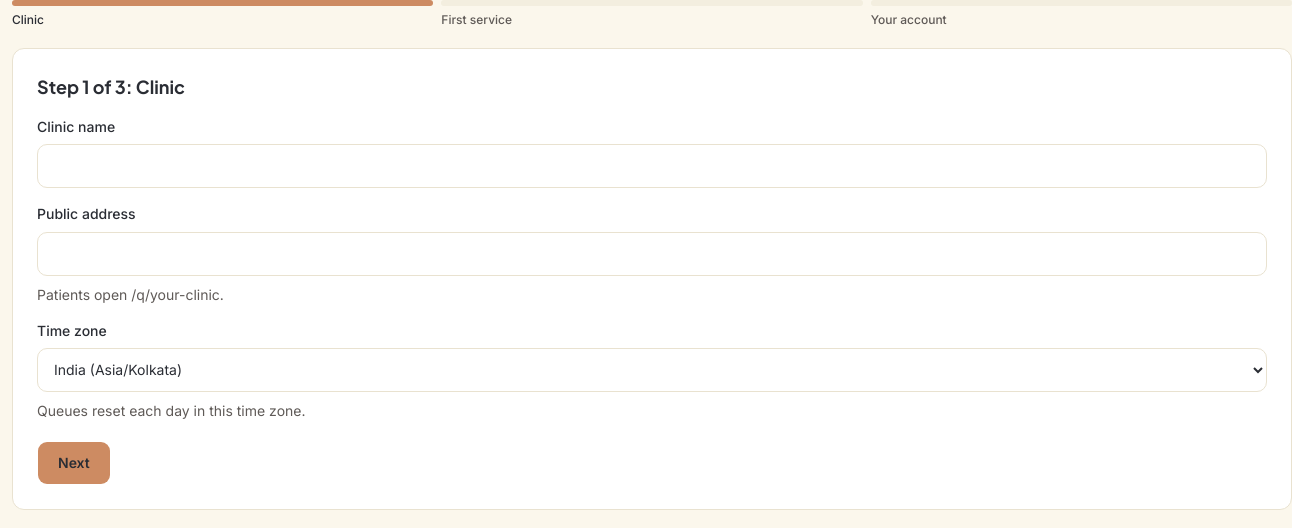
Test case: SignupWizard › suggests an address from the clinic name and confirms it's free
Type "Sharma Clinic" into the field labelled "Clinic name" at (652, 166), box [37,144,1267,188]
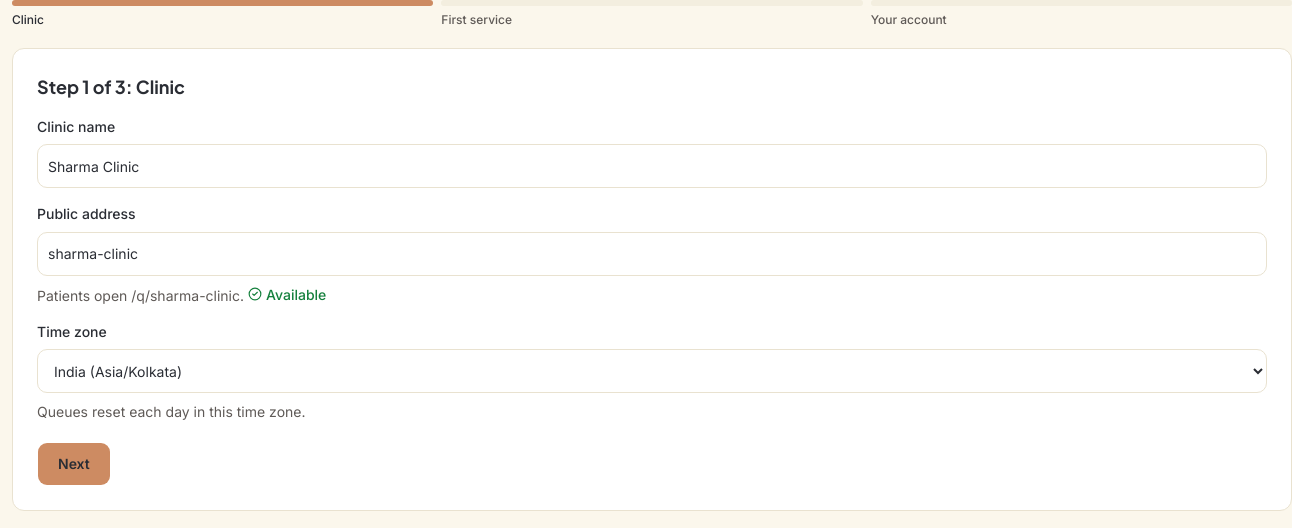
Expected: the field labelled "Public address" holds "sharma-clinic", [37,232,1267,276]
Expected: the text "Available" is shown, [248,284,326,304]
